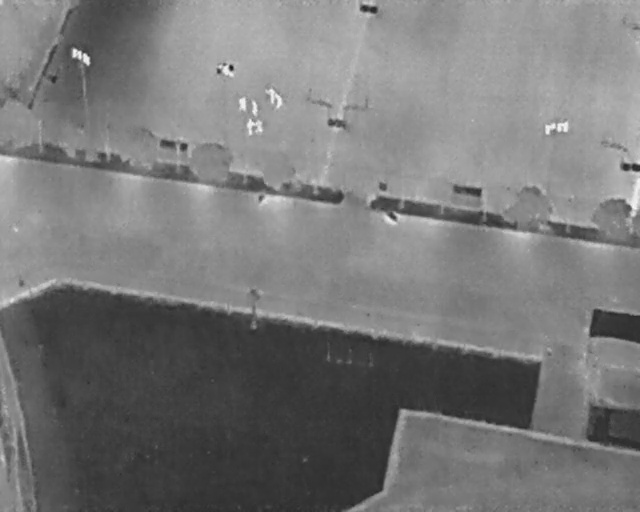Person: (266, 85, 276, 104), (247, 117, 255, 136), (275, 91, 283, 110), (239, 95, 247, 112), (256, 118, 264, 135), (251, 98, 258, 117)
